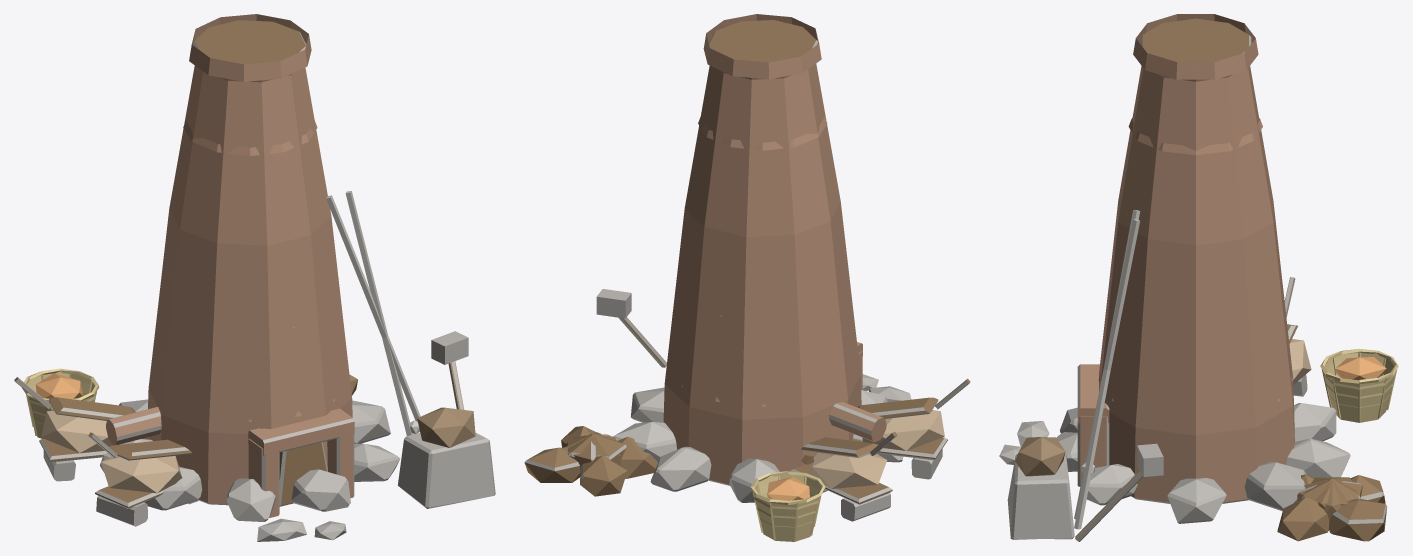
Rendered from w3d_bloomery_idle.glb.
3 renders of one model, left to right at view 1: azimuth 30°, elevation 25°; view 2: azimuth 150°, elevation 25°; view 3: azimuth 270°, elevation 25°, orthographic. The views are drawn at different scales.
Parts seen in each view (by area): view 1: w3d_bloomery_idle; view 2: w3d_bloomery_idle; view 3: w3d_bloomery_idle.
Part boxes in pixels (x1,y1,x2,y2): w3d_bloomery_idle: (14, 14, 495, 541); w3d_bloomery_idle: (524, 14, 970, 541); w3d_bloomery_idle: (999, 14, 1398, 541).
Size of the model in its own units: 1.94 by 2.07 by 1.76.
